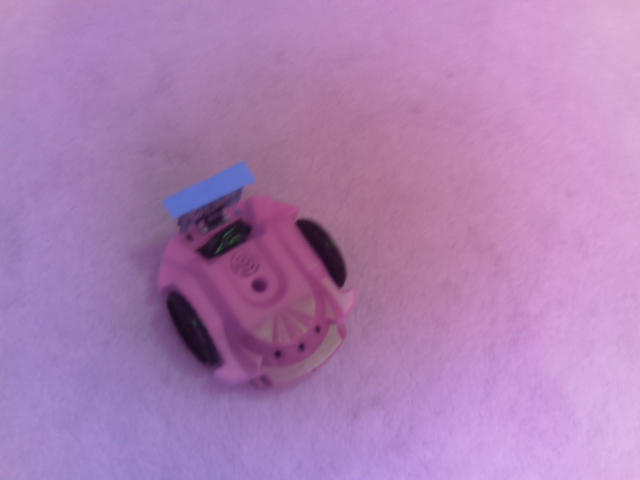board: (162, 159, 257, 221)
chassis: (135, 148, 364, 400)
